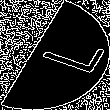L_NW: (15, 30, 95, 80)
